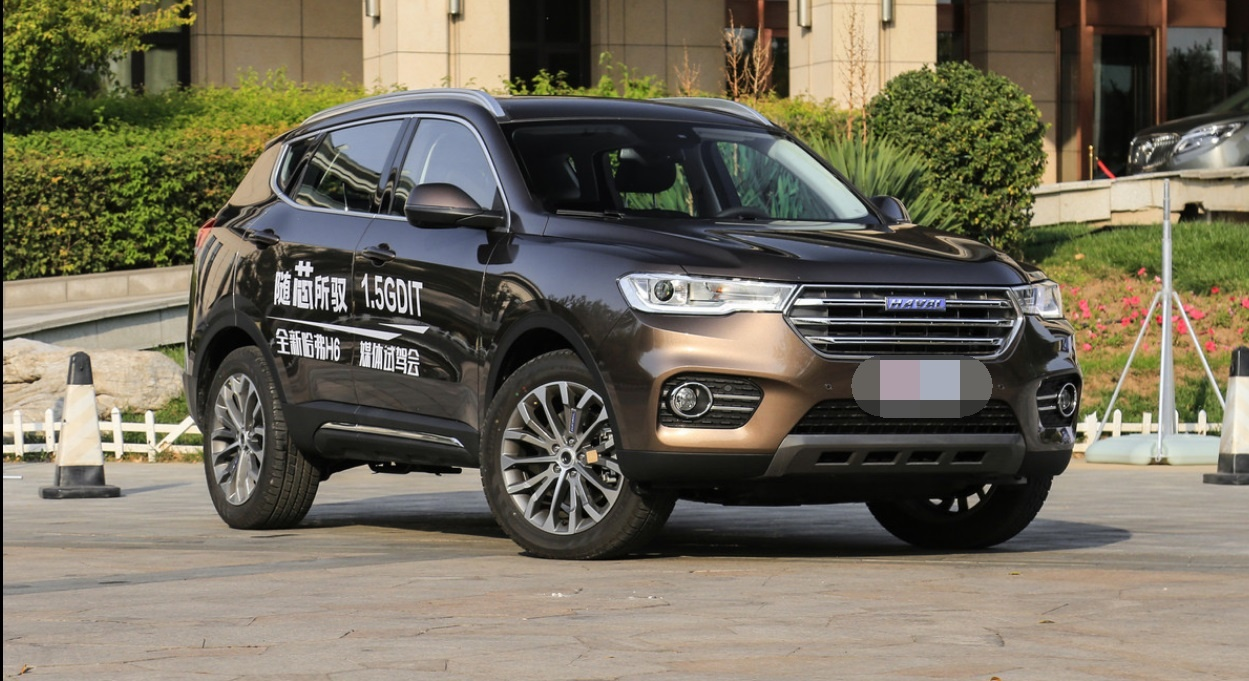SUV: (157, 87, 1087, 559)
